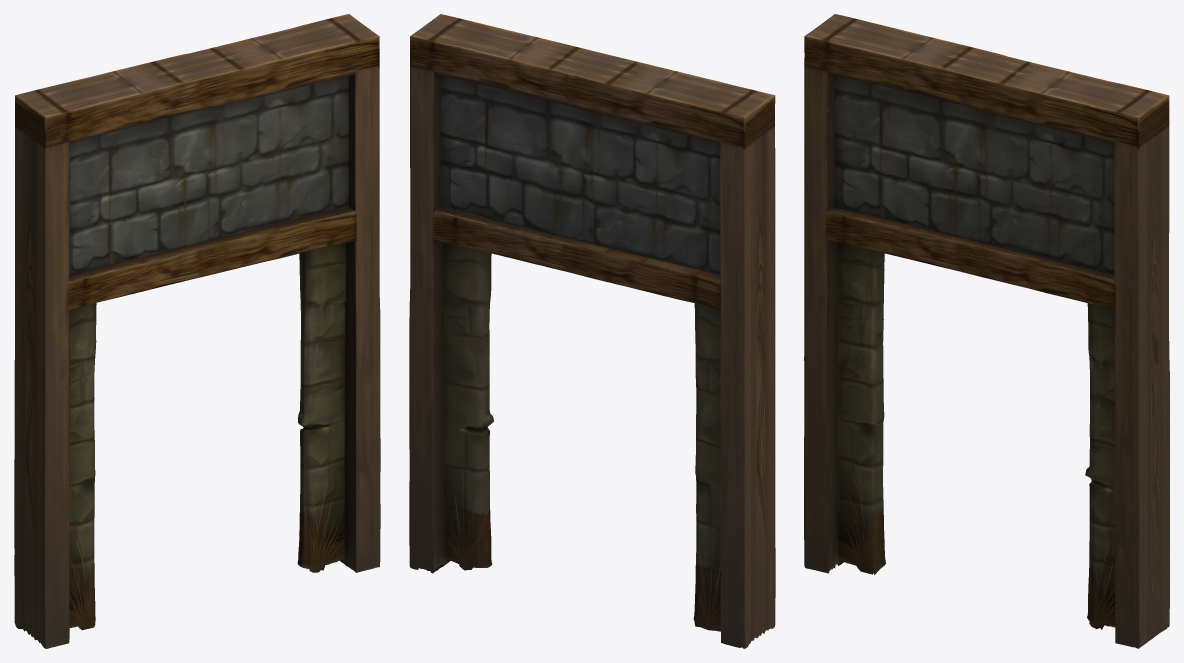
Rendered from frame_dungeon.glb.
3 views of the same model, side by side, from view 1: azimuth 30°, elevation 25°; view 2: azimuth 150°, elevation 25°; view 3: azimuth 330°, elevation 25° (orthographic).
Parts seen in each view (by area): view 1: Meshy_AI_Dungeon_Gate_1215093133_texture; view 2: Meshy_AI_Dungeon_Gate_1215093133_texture; view 3: Meshy_AI_Dungeon_Gate_1215093133_texture.
Boxes of the visible parts, left/top/right/bottom form: Meshy_AI_Dungeon_Gate_1215093133_texture: left=14, top=14, right=380, bottom=648; Meshy_AI_Dungeon_Gate_1215093133_texture: left=409, top=14, right=775, bottom=648; Meshy_AI_Dungeon_Gate_1215093133_texture: left=804, top=14, right=1169, bottom=648.
Bounding box in the file's own units: 2.01 × 3.05 × 0.3192.
1 material, 1 textured.
